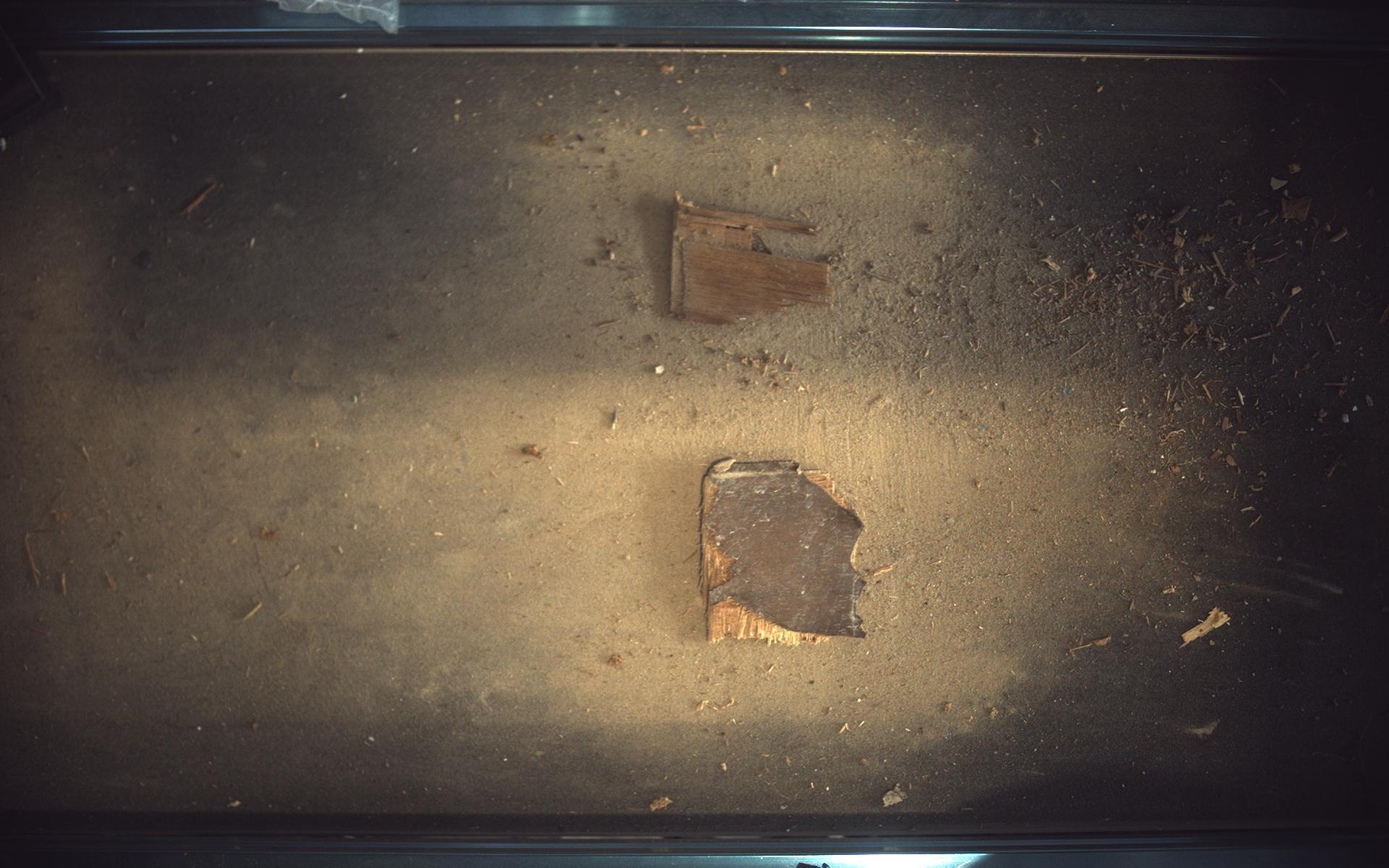wood: (702, 458, 867, 646), (672, 192, 835, 323)
